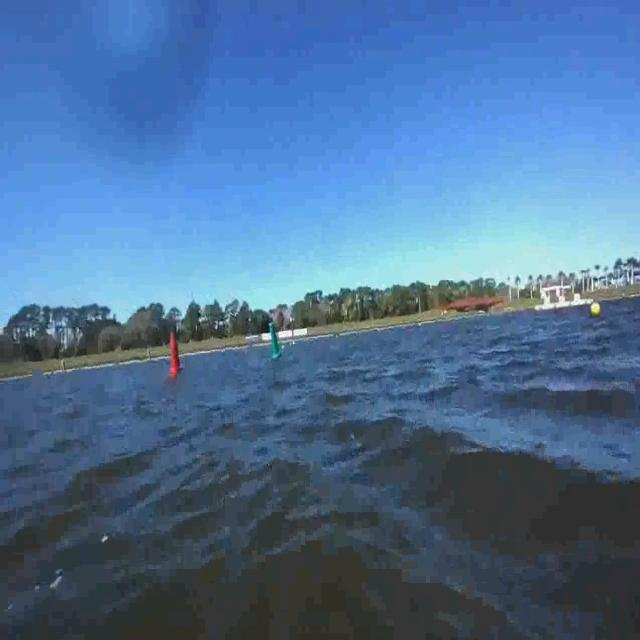green-column-buoy: (261, 313, 286, 358)
red-column-buoy: (163, 327, 186, 382)
